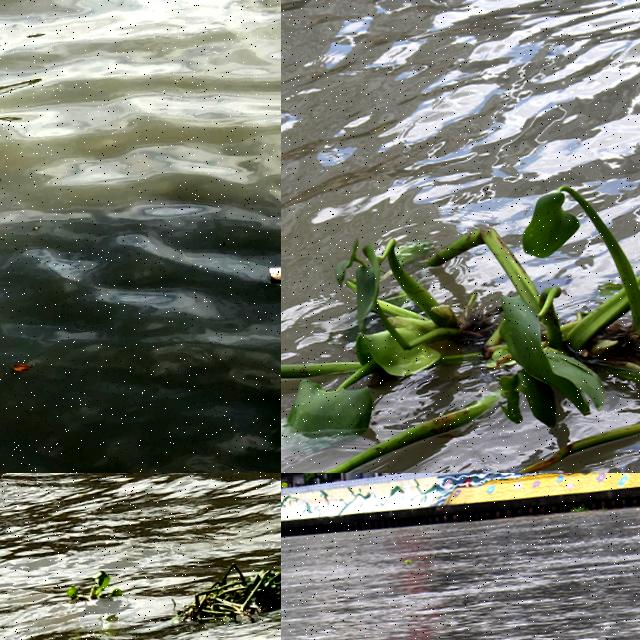water-hyacinth: (282, 171, 640, 474), (187, 533, 282, 634), (70, 571, 125, 609)
